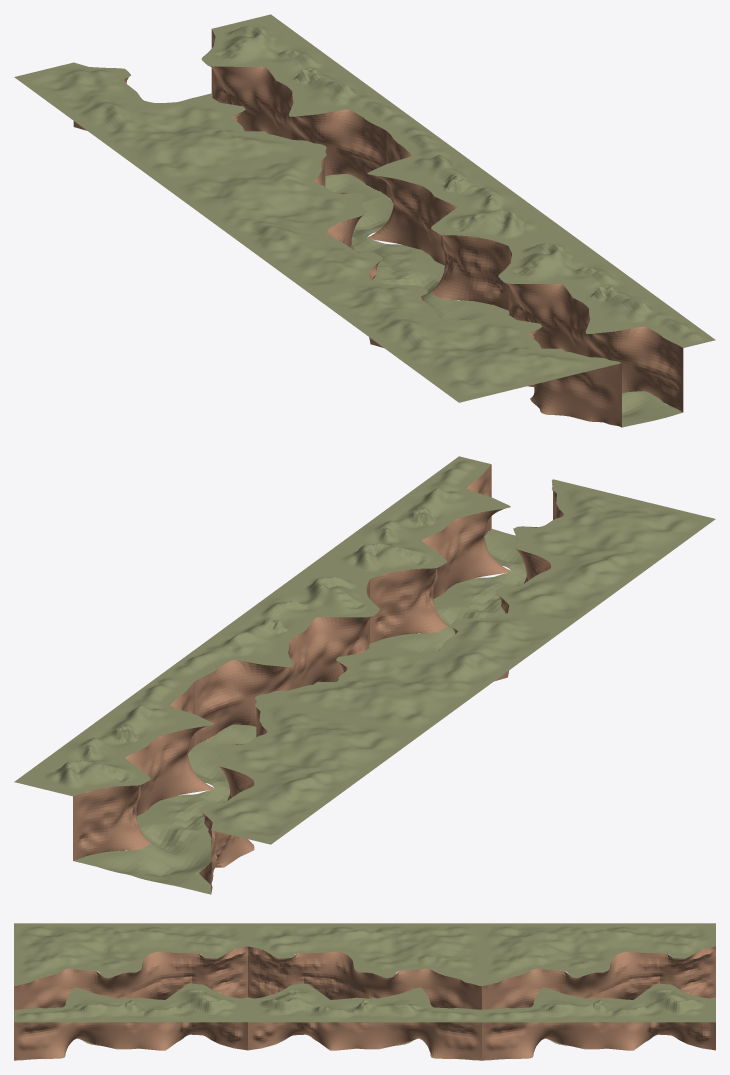
Rendered from canyon.fbx.
3 renders of one model, top to bottom at view 1: azimuth 30°, elevation 25°; view 2: azimuth 150°, elevation 25°; view 3: azimuth 270°, elevation 25°, orthographic. The views are drawn at different scales.
Parts seen in each view (by area): view 1: Group18, Group6, Group12, Group10, Group16, Group4, Group3, Group15, Group9, Group11, Group2, Group5 (+2 smaller); view 2: Group12, Group6, Group18, Group10, Group4, Group16, Group9, Group15, Group3, Group17, Group5, Group14 (+2 smaller); view 3: Group6, Group12, Group18, Group2, Group8, Group14, Group3, Group9, Group15, Group4, Group10, Group16.
Boxes of the visible parts, x1,y1,x2,y2 form: Group18: [14, 62, 324, 185]; Group6: [311, 279, 621, 402]; Group12: [163, 146, 382, 293]; Group10: [367, 123, 567, 245]; Group16: [201, 14, 418, 130]; Group4: [498, 231, 715, 347]; Group3: [506, 247, 683, 412]; Group15: [209, 29, 386, 195]; Group9: [368, 131, 508, 310]; Group11: [351, 195, 507, 320]; Group2: [370, 294, 621, 427]; Group5: [480, 310, 682, 427]; Group12: [256, 613, 567, 735]; Group6: [495, 479, 715, 627]; Group18: [198, 696, 418, 844]; Group10: [162, 565, 379, 681]; Group4: [311, 456, 510, 579]; Group16: [14, 673, 213, 796]; Group9: [195, 579, 372, 745]; Group15: [73, 682, 213, 860]; Group3: [370, 465, 510, 643]; Group17: [74, 746, 229, 894]; Group5: [370, 529, 526, 653]; Group14: [198, 700, 267, 894]; Group6: [14, 923, 247, 985]; Group12: [248, 923, 481, 985]; Group18: [482, 923, 715, 985]; Group2: [14, 946, 247, 1009]; Group8: [248, 946, 481, 1009]; Group14: [482, 946, 715, 1009]; Group3: [14, 1003, 247, 1060]; Group9: [248, 1003, 481, 1060]; Group15: [482, 1003, 715, 1060]; Group4: [14, 984, 247, 1022]; Group10: [248, 984, 481, 1022]; Group16: [482, 984, 715, 1022].
Size of the model in its own units: 5000 by 1639 by 15000.
